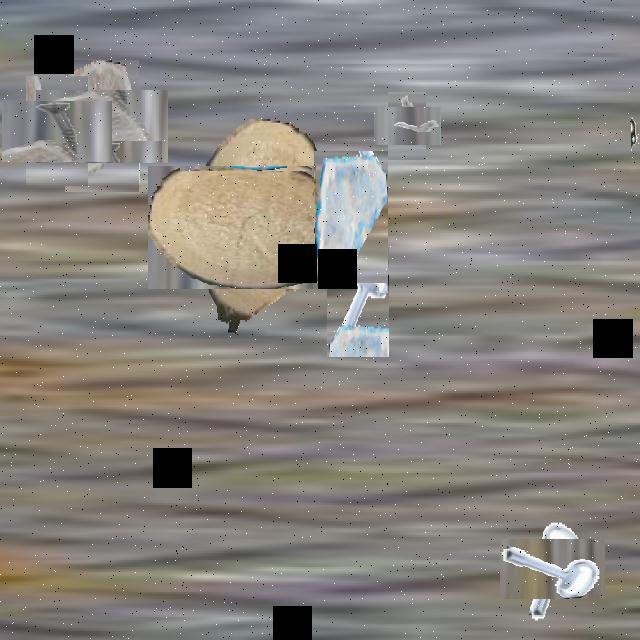glass: (50, 75, 154, 177), (314, 151, 388, 283)
metal: (14, 89, 100, 174), (511, 527, 594, 611), (327, 247, 389, 357), (381, 100, 434, 152), (631, 74, 640, 178)
wood: (172, 142, 342, 313)
